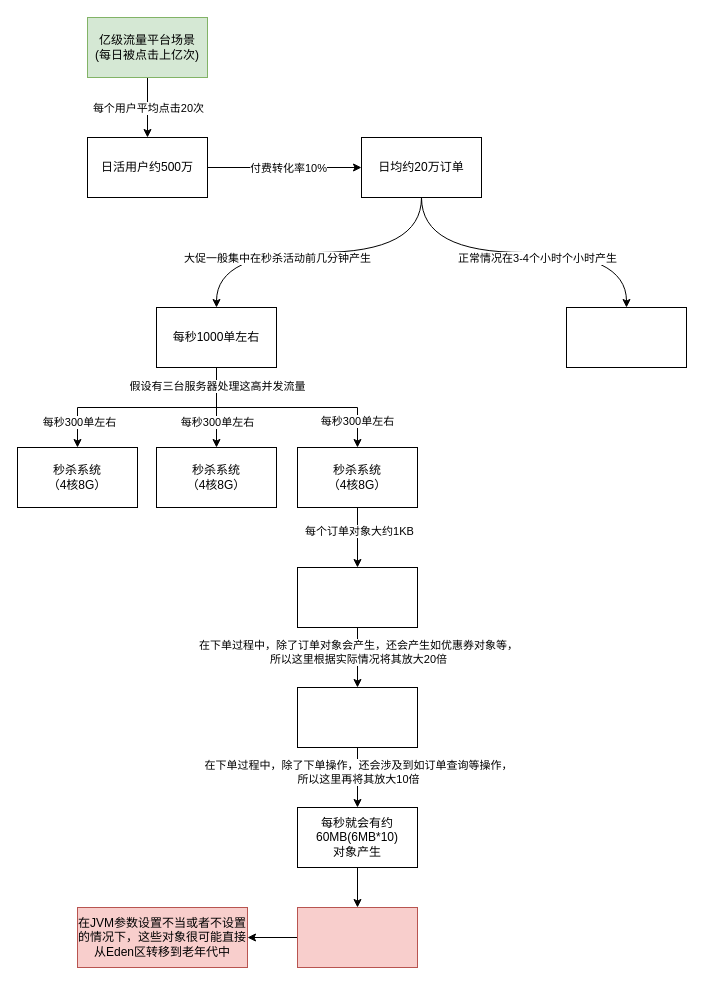
Some shapes in this 704 by 985 pixel diagram are drawn without their labels. Each missing label, with the centre of its shape:
"1秒后，这60MB对象大多数情况下会直接在Eden区被回收" belongs at [357,937].
"每秒就会有300KB订单对象产生" belongs at [357,597].
"每秒就会有约6MB(300KB*20) 对象产生" belongs at [357,717].
"每秒数十单" belongs at [626,337].
